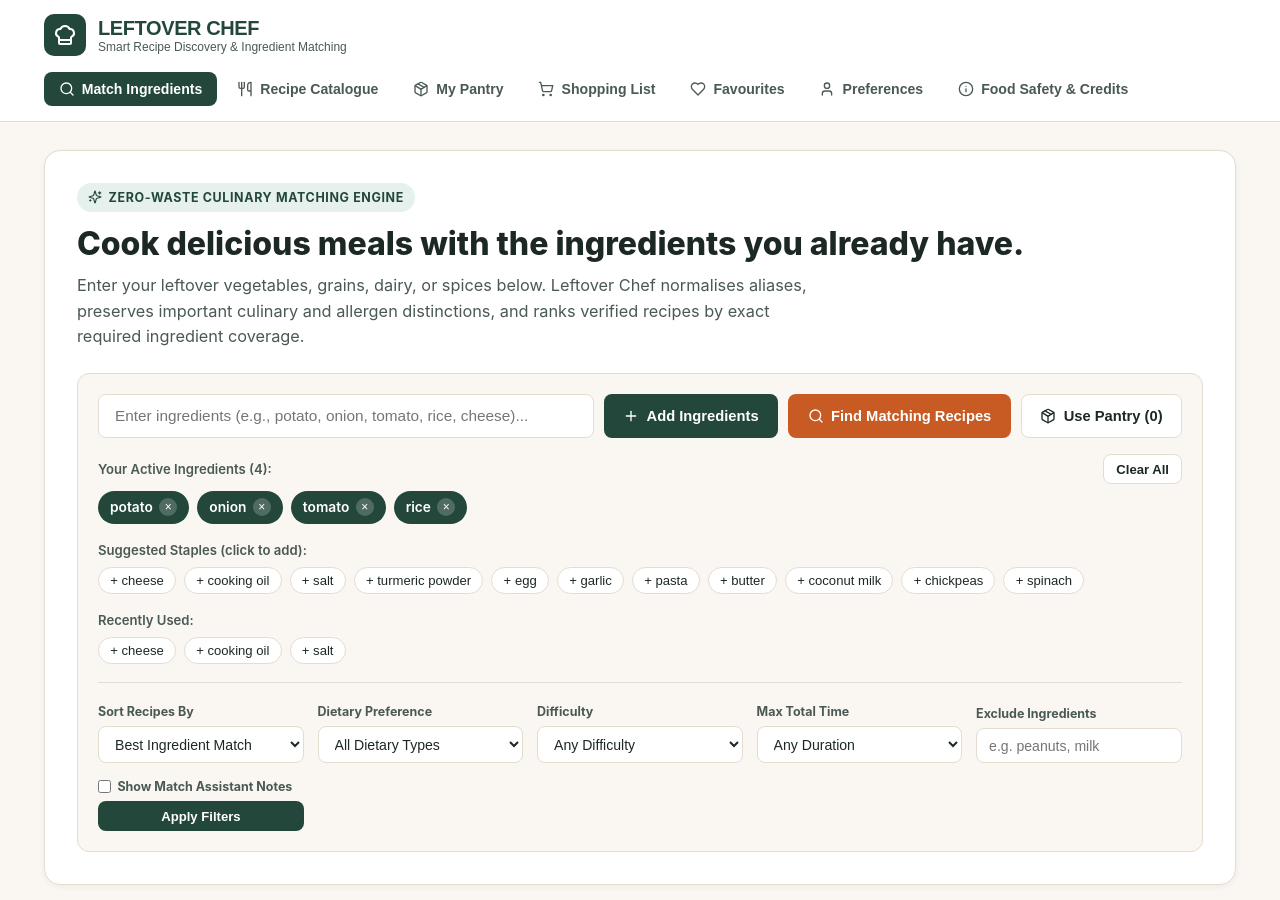
it: Leftover Chef Frontend Verification Suite (TC-53 to TC-60) › TC-60: Confirms all navigation tabs and interactive controls perform real state updates
Click the button "My Pantry": point(458, 89) [398,72,518,106]
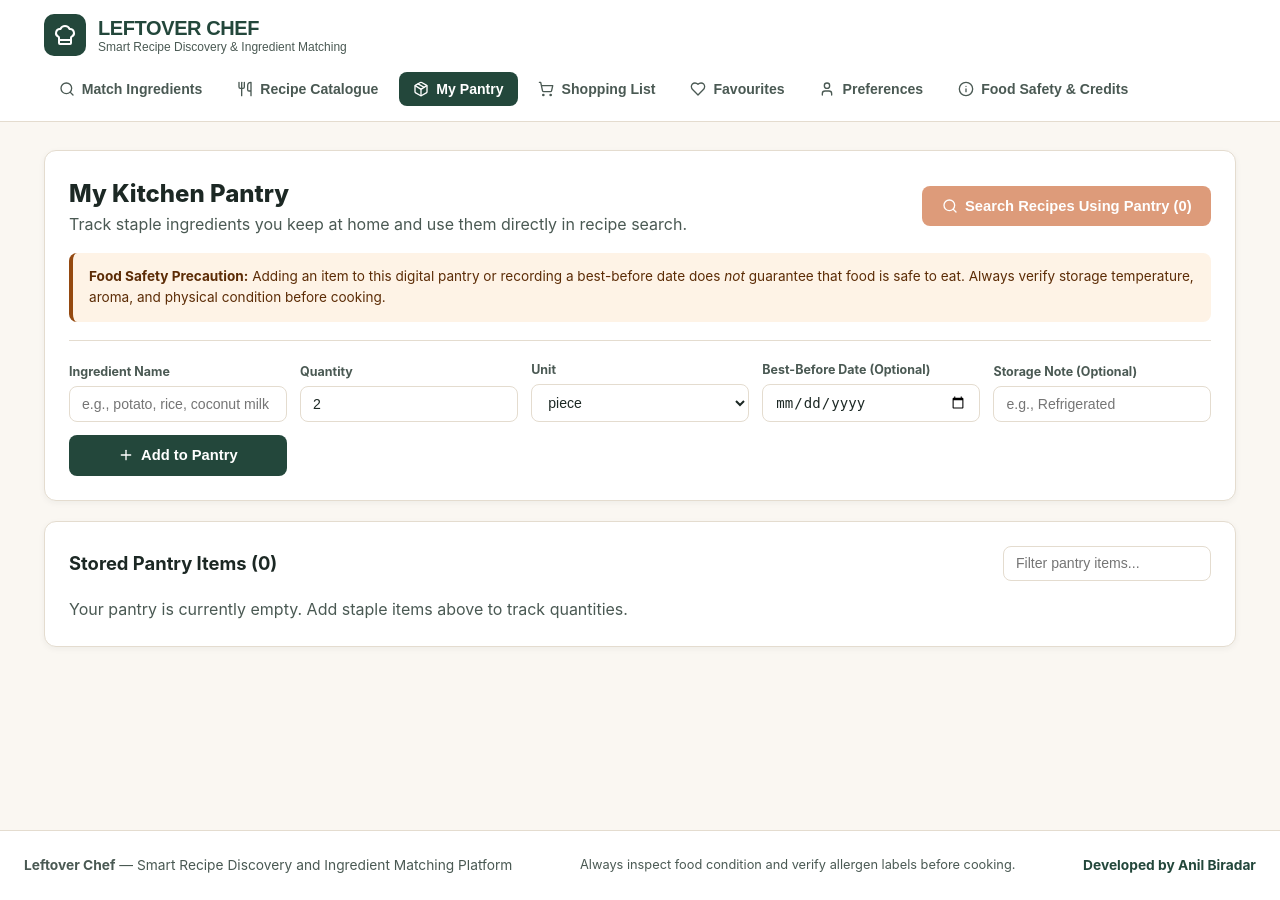
Check: the heading "My Kitchen Pantry" is shown, box [69,179,289,208]
Click the button "Shopping List": point(597, 89) [524,72,670,106]
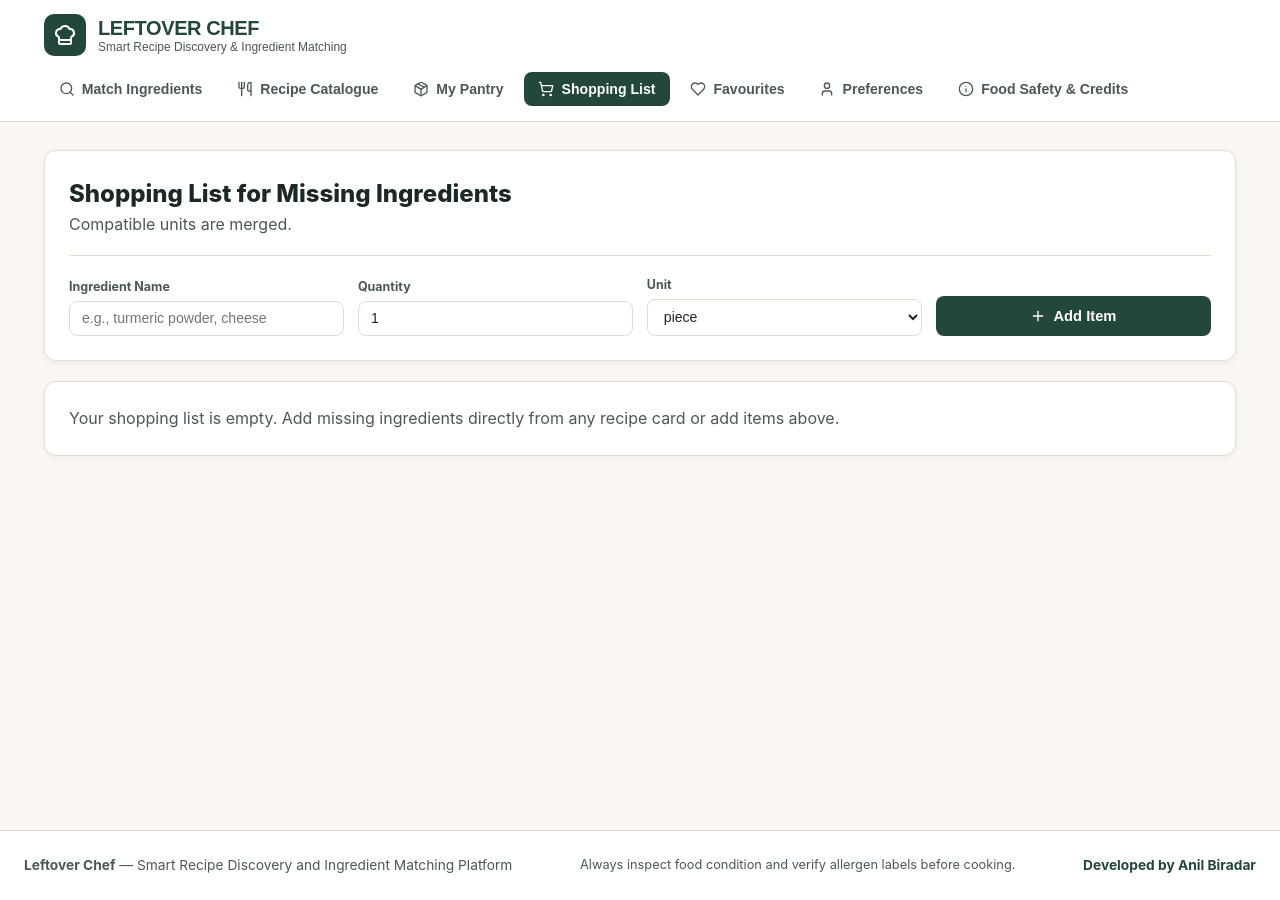
Check: the heading "Shopping List for Missing Ingredients" is shown, box [69,175,512,212]
Click the button "Favourites": point(737, 89) [676,72,799,106]
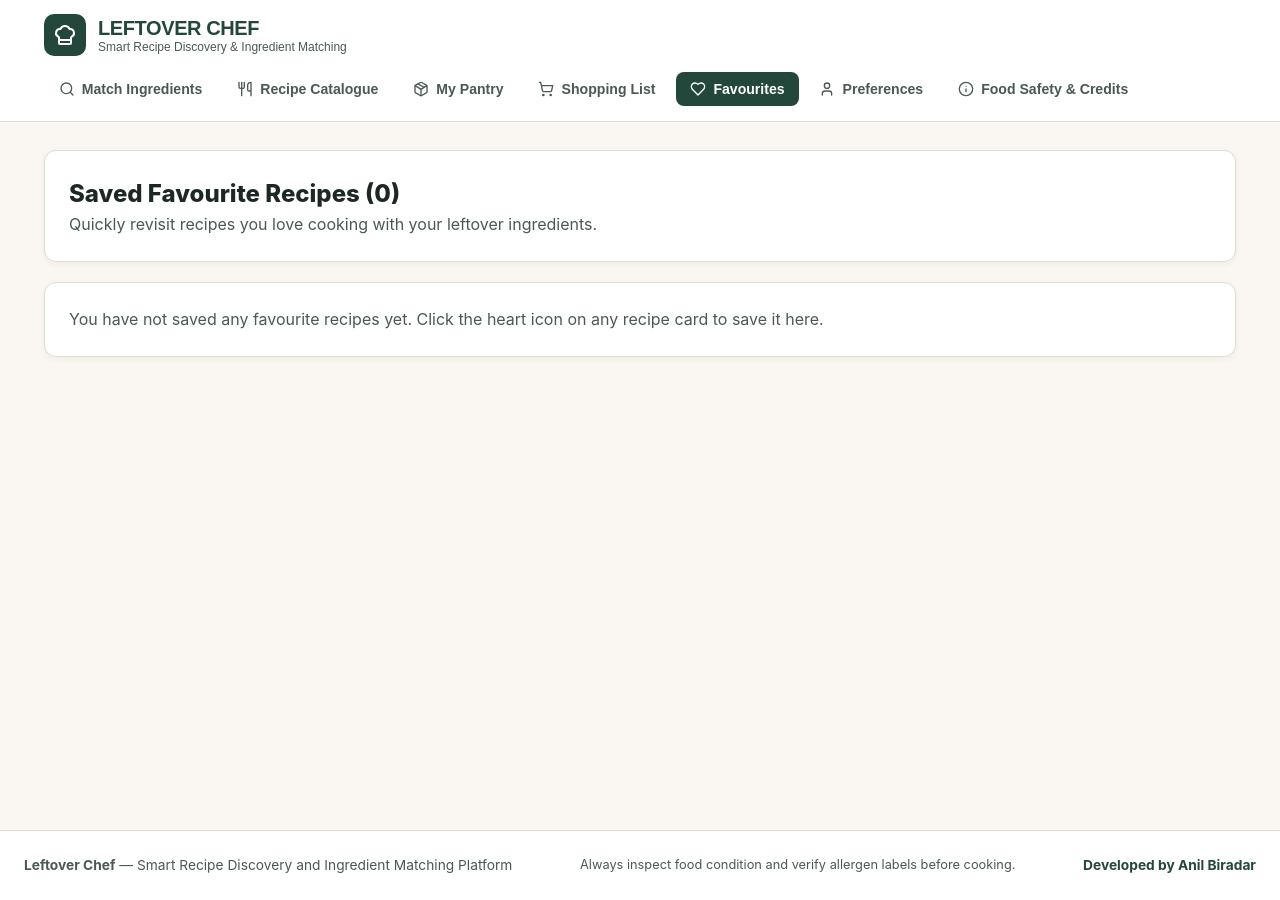
Check: the heading "Saved Favourite Recipes (0)" is shown, box [69,179,400,208]
Click the button "Preferences": point(871, 89) [805,72,938,106]
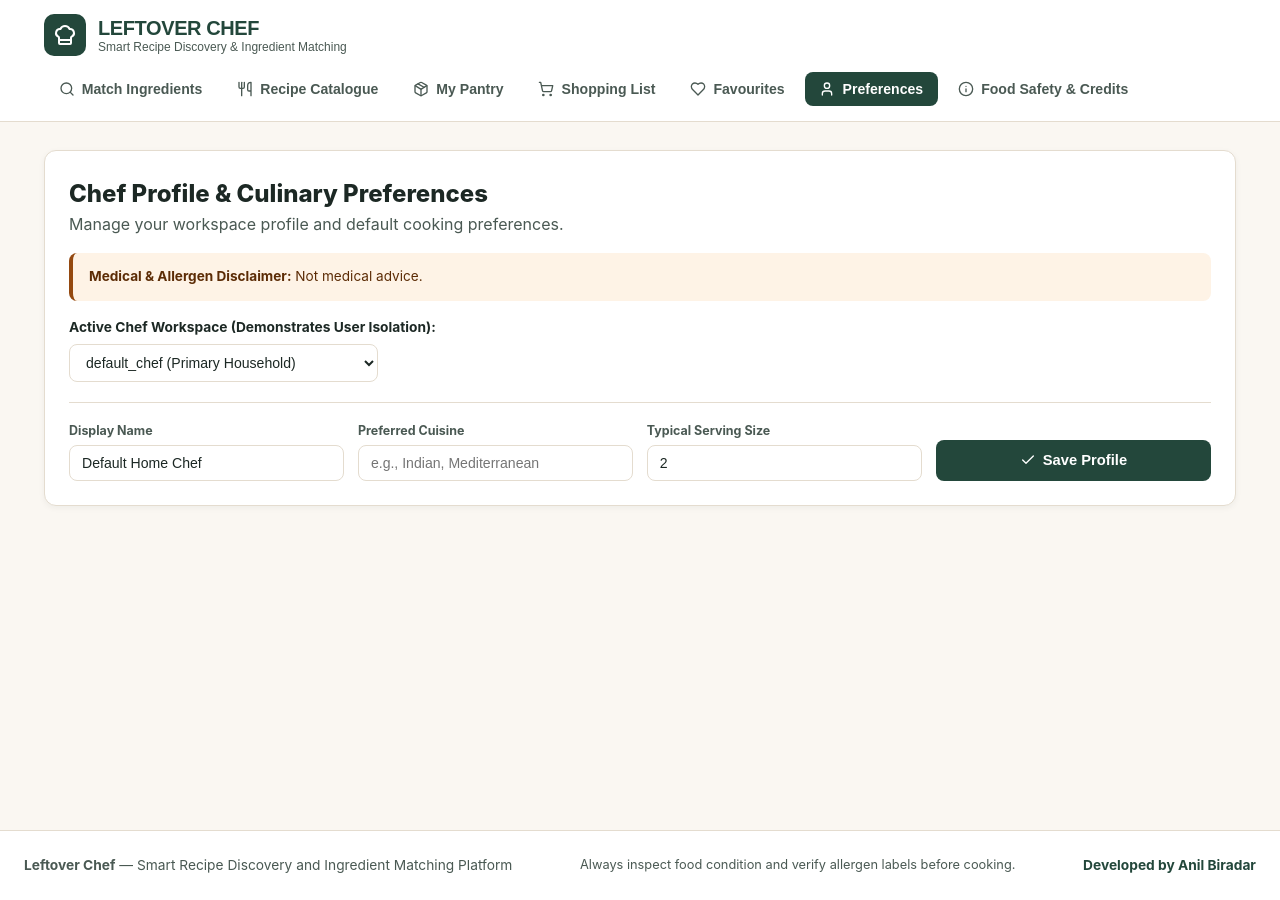
Check: the heading "Chef Profile & Culinary Preferences" is shown, box [69,179,488,208]
